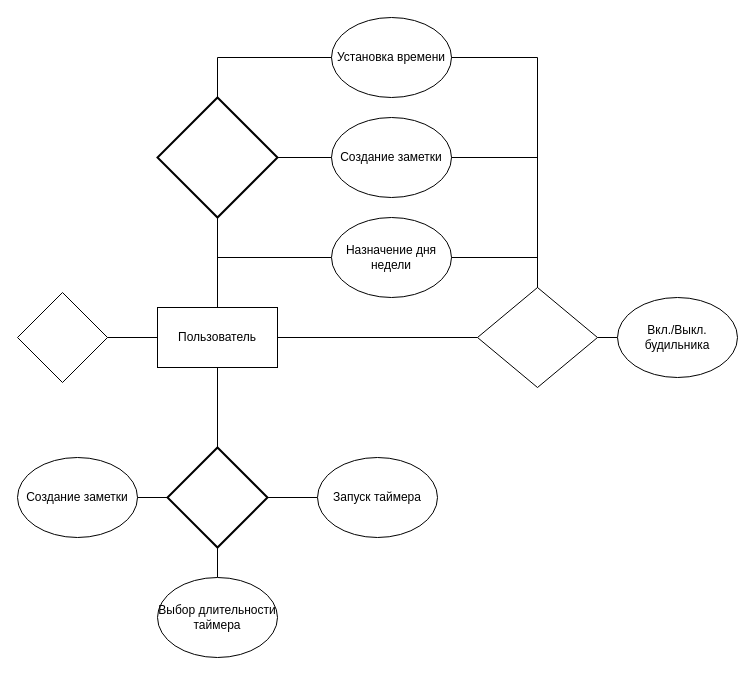
The diagram is 755 pixels wide and 675 high, and some of its shapes have lost their labels. The shapes that lost their labels are listed below. From the top down, each one's centre as x and y in pixels, then its label:
the point at 217,157: Создание нового будильника
the point at 62,337: Просмотр справки о приложении
the point at 537,337: Настройка установленного будильника
the point at 217,497: Установка таймера
